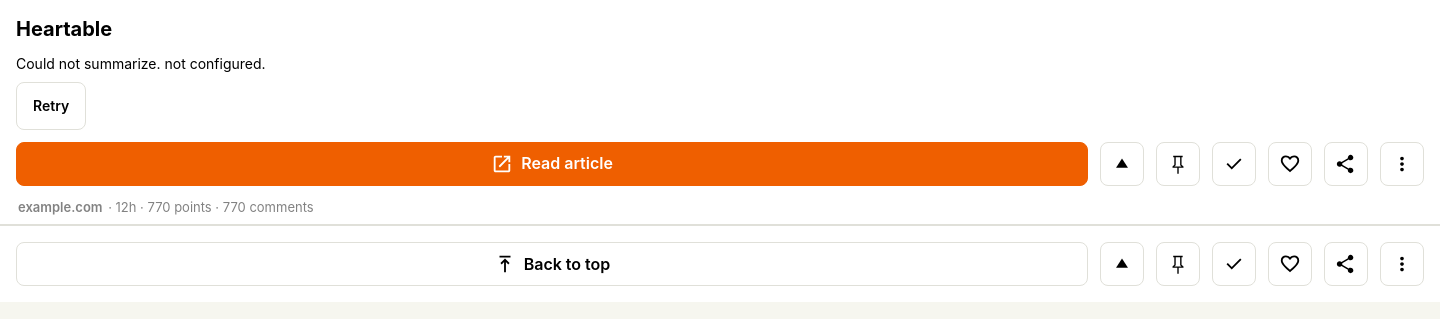
Test: <Thread> › wide-screen action bar (≥960px) › toggles favorite via the inline heart button on wide screens
Expected: the link "Heartable" is shown, [16,17,112,41]
Click the button with test id "thread-favorite" at (1290, 164), box [1268,142,1312,186]
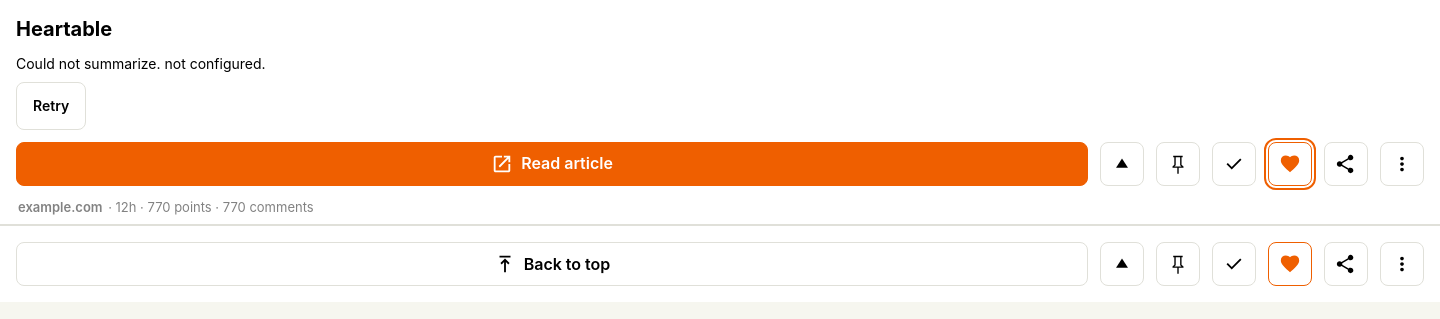
Result: the button with test id "thread-favorite" is pressed at [1268,142,1312,186]
